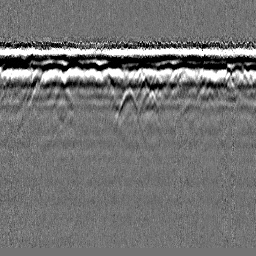cavity: (113, 89, 138, 131)
